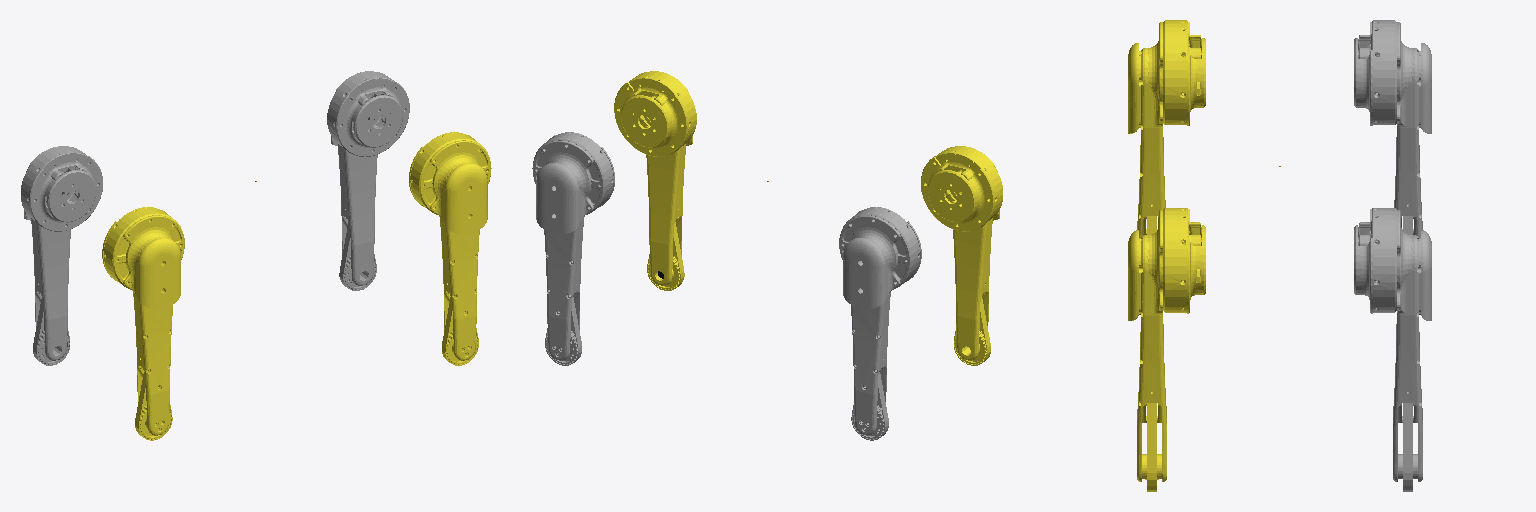
The robot description file, URDF, robot "mini_cheetah_vision":
<?xml version="1.0" ?>
<robot name="mini_cheetah_vision" xmlns:xacro="http://ros.org/wiki/xacro">
    <material name="black">
      <color rgba="0.0 0.0 0.0 1.0"/>
    </material>
    <material name="blue">
      <color rgba="0.0 0.0 0.8 1.0"/>
    </material>
    <material name="green">
      <color rgba="0.0 0.8 0.0 1.0"/>
    </material>
    <material name="grey">
      <color rgba="0.2 0.2 0.2 1.0"/>
    </material>
    <material name="silver">
      <color rgba="0.913725490196 0.913725490196 0.847058823529 1.0"/>
    </material>
    <material name="orange">
      <!-- <color rgba="1.0 0.423529411765 0.0392156862745 1.0"/> -->
      <color rgba="0.12 0.15 0.2 1.0"/>
    </material>
    <material name="brown">
      <color rgba="0.870588235294 0.811764705882 0.764705882353 1.0"/>
    </material>
    <material name="red">
      <color rgba="0.8 0.0 0.0 1.0"/>
    </material>
    <material name="white">
      <color rgba="1.0 1.0 1.0 1.0"/>
    </material>
    <link name="base">
      <visual>
        <origin rpy="0 0 0" xyz="0 0 0"/>
        <geometry>
          <box size="0.001 0.001 0.001"/>
        </geometry>
      </visual>
    </link>
    <joint name="floating_base" type="fixed">
      <origin rpy="0 0 0" xyz="0 0 0"/>
      <parent link="base"/>
      <child link="trunk"/>
    </joint>
    <link name="trunk">
        <inertial>
            <!-- <mass value="3.3"/> -->
            <mass value="2.65"/>
            <origin xyz="0.0 0.0 0.0"/>
            <inertia ixx="0.011253" ixy="0" ixz="0" iyy="0.362030" iyz="0" izz="0.042673"/>
        </inertial>
        <visual>
          <origin rpy="0.0 0.0 0.0" xyz="0.0 0.0 0.0"/>
          <geometry>
              <mesh filename="meshes/mini_vision_body.dae" scale="1 1 1"/>
          </geometry>
          <material name="orange"/>
        </visual>
        <collision>
          <origin rpy="0 0 0" xyz="0 0 0.0"/>
          <geometry>
            <box size="0.30 0.20 0.10"/>
          </geometry>
        </collision>
    </link>

     <joint name="FR_hip_joint" type="revolute">
        <axis xyz="1 0 0"/>
        <origin rpy="0 0 0" xyz="0.14775 -0.049 0.0"/>
        <parent link="trunk"/>
        <child link="FR_hip"/>
        <dynamics damping="0.0" friction="0.0"/>
        <limit effort="17" lower="-0.8" upper="0.8" velocity="40"/>
    </joint>
    <link name="FR_hip">
        <inertial>
            <mass value="0.54"/>
            <origin xyz="0.055 -0.036 0."/>
            <inertia ixx="0.000381" ixy="0.000058" ixz="0.00000045"
                iyy="0.000560" iyz="0.00000095" izz="0.000444"/>
        </inertial>
        <visual>
            <geometry>
                <mesh filename="meshes/mini_vision_abd.dae"/>
            </geometry>
            <origin rpy="0.0 0.0 0.0" xyz="0.0 0.0 0.0"/>
        </visual>
        <!-- <collision>
            <geometry>
                <mesh filename="meshes/mini_vision_abd.obj"/>
            </geometry>
            <origin rpy="0. 0. 0." xyz="0. 0 0"/>
        </collision> -->
    </link>
    <joint name="FR_thigh_joint" type="revolute">
        <axis xyz="0 -1 0"/>
        <origin rpy="0.0 0.0 0.0" xyz="0.055 -0.019 0.00"/>
        <parent link="FR_hip"/>
        <child link="FR_thigh"/>
        <dynamics damping="0.0" friction="0.0"/>
        <limit effort="17" lower="-2.5" upper="1.0" velocity="40"/>
    </joint>
    <link name="FR_thigh">
        <inertial>
            <mass value="0.634"/>
            <origin xyz="0.0 0.016 -0.02"/>
            <inertia ixx="0.001983" ixy="0.000245" ixz="0.000013"
                iyy="0.002103" iyz="0.0000015" izz="0.000408"/>
        </inertial>
        <visual>
            <geometry>
                <mesh filename="meshes/mini_vision_shank.dae"/>
            </geometry>
            <origin rpy="0.0 0.0 0.0" xyz="0.0 0.0 0.0"/>
        </visual>
        <collision>
          <origin rpy="0 1.57079632679 0" xyz="0 -0.05 -0.1"/>
          <geometry>
            <box size="0.2585 0.034 0.043"/>
          </geometry>
        </collision>
    </link>

    <joint name="FR_calf_joint" type="revolute">
        <axis xyz="0 -1 0"/>
        <origin rpy="0.0 0 0.0" xyz="0.0 -0.049 -0.2085"/>
        <parent link="FR_thigh"/>
        <child link="FR_calf"/>
        <dynamics damping="0.0" friction="0.0"/>
        <limit effort="17" lower="1.0" upper="2.5" velocity="40"/>
    </joint>
    <link name="FR_calf">
        <inertial>
            <mass value="0.064"/>
            <origin xyz="0.0 0.0 -0.061"/>
            <inertia ixx="0.000245" ixy="0" ixz="0.0" iyy="0.000248" iyz="0" izz="0.000006"/>
        </inertial>
        <visual>
            <geometry>
                <mesh filename="meshes/lower_leg.dae"/>
            </geometry>
            <origin rpy="0.0 0.0 0.0" xyz="0.0 0.0 0.0"/>
        </visual>
        <collision>
          <origin rpy="0 0 0" xyz="0 0 -0.09"/>
          <geometry>
            <box size="0.025 0.025 0.1955"/>
          </geometry>
        </collision>
    </link>
    <joint name="FR_foot_fixed" type="fixed" dont_collapse="true">
      <origin rpy="0 0 0" xyz="0 0.0 0"/>
      <parent link="FR_calf"/>
      <child link="FR_foot"/>
    </joint>
    <!-- this link is only for collision -->
    <link name="FR_foot">
      <visual>
        <origin rpy="0 0 0" xyz="0 0 0"/>
        <geometry>
          <sphere radius="0.01"/>
        </geometry>
        <material name="orange"/>
      </visual>
      <collision>
        <origin rpy="0.0 0.0 0" xyz="0 -0.004 -0.195"/>
        <geometry>
          <sphere radius="0.0185"/>
        </geometry>
      </collision>
      <inertial>
        <mass value="0.06"/>
        <inertia ixx="9.6e-06" ixy="0.0" ixz="0.0" iyy="9.6e-06" iyz="0.0" izz="9.6e-06"/>
      </inertial>
    </link>

    <joint name="FL_hip_joint" type="revolute">
        <axis xyz="1 0 0"/>
        <origin rpy="0 0 0" xyz="0.14775 0.049 0.0"/>
        <parent link="trunk"/>
        <child link="FL_hip"/>
        <dynamics damping="0.0" friction="0.0"/>
        <limit effort="17" lower="-0.8" upper="0.8" velocity="40"/>
    </joint>
    <link name="FL_hip">
        <inertial>
            <mass value="0.54"/>
            <origin xyz="0.055 0.036 0."/>
            <inertia ixx="0.000381" ixy="0.000058" ixz="0.00000045"
                iyy="0.000560" iyz="0.00000095" izz="0.000444"/>
        </inertial>
        <visual>
            <geometry>
                <mesh filename="meshes/mini_vision_abd.dae"/>
            </geometry>
            <origin rpy="3.141592 0.0 0.0" xyz="0.0 0.0 0.0"/>
        </visual>

    </link>

    <joint name="FL_thigh_joint" type="revolute">
        <axis xyz="0 -1 0"/>
        <origin rpy="0.0 0.0 0.0" xyz="0.055 0.019 0.00"/>
        <parent link="FL_hip"/>
        <child link="FL_thigh"/>
        <dynamics damping="0.0" friction="0.0"/>
        <limit effort="17" lower="-2.5" upper="1.0" velocity="40"/>
    </joint>
    <link name="FL_thigh">
        <inertial>
            <mass value="0.634"/>
            <origin xyz="0.0 0.016 -0.02"/>
            <inertia ixx="0.001983" ixy="0.000245" ixz="0.000013"
                iyy="0.002103" iyz="0.0000015" izz="0.000408"/>
        </inertial>
        <visual>
            <geometry>
                <mesh filename="meshes/mini_vision_shank.dae"/>
            </geometry>
            <origin rpy="0.0 0 3.141592" xyz="0.0 0.0 0.0"/>
        </visual>
        <collision>
          <origin rpy="0 1.57079632679 0" xyz="0 0.05 -0.1"/>
          <geometry>
            <box size="0.2585 0.034 0.043"/>
          </geometry>
        </collision>
    </link>

    <joint name="FL_calf_joint" type="revolute">
        <axis xyz="0 -1 0"/>
        <origin rpy="0.0 0 0.0" xyz="0.0 0.049 -0.2085"/>
        <parent link="FL_thigh"/>
        <child link="FL_calf"/>
        <dynamics damping="0.0" friction="0.0"/>
        <limit effort="17" lower="1.0" upper="2.5" velocity="40"/>
    </joint>
    <link name="FL_calf">
        <inertial>
            <mass value="0.064"/>
            <origin xyz="0.0 0.0 -0.061"/>
            <inertia ixx="0.000245" ixy="0" ixz="0.0" iyy="0.000248" iyz="0" izz="0.000006"/>
        </inertial>
        <visual>
            <geometry>
                <mesh filename="meshes/lower_leg.dae"/>
            </geometry>
            <origin rpy="0.0 0.0 3.141592" xyz="0.0 0.0 0.0"/>
        </visual>

        <collision>
          <origin rpy="0 0 0" xyz="0 0 -0.09"/>
          <geometry>
            <box size="0.025 0.025 0.1955"/>
          </geometry>
        </collision>
    </link>
    <joint name="FL_foot_fixed" type="fixed" dont_collapse="true">
      <origin rpy="0 0 0" xyz="0 0.0 0"/>
      <parent link="FL_calf"/>
      <child link="FL_foot"/>
    </joint>
    <!-- this link is only for collision -->
    <link name="FL_foot">
      <collision>
        <origin rpy="0.0 0.0 0" xyz="0 0.004 -0.195"/>
        <geometry>
          <sphere radius="0.0185"/>
        </geometry>
      </collision>
      <inertial>
        <mass value="0.06"/>
        <inertia ixx="9.6e-06" ixy="0.0" ixz="0.0" iyy="9.6e-06" iyz="0.0" izz="9.6e-06"/>
      </inertial>
    </link>

    <joint name="RR_hip_joint" type="revolute">
        <axis xyz="-1 0 0"/>
        <origin rpy="0 3.141592 0" xyz="-0.14775 -0.049 0.0"/>
        <parent link="trunk"/>
        <child link="RR_hip"/>
        <dynamics damping="0.0" friction="0.0"/>
        <limit effort="17" lower="-0.8" upper="0.8" velocity="40"/>
    </joint>
    <link name="RR_hip">
        <inertial>
            <mass value="0.54"/>
            <origin xyz="0.055 -0.036 0."/>
            <inertia ixx="0.000381" ixy="0.000058" ixz="0.00000045"
                iyy="0.000560" iyz="0.00000095" izz="0.000444"/>
        </inertial>
        <visual>
            <geometry>
                <mesh filename="meshes/mini_vision_abd.dae"/>
            </geometry>
            <origin rpy="0.0 0.0 0.0" xyz="0.0 0.0 0.0"/>
        </visual>
    </link>

    <joint name="RR_thigh_joint" type="revolute">
        <axis xyz="0 -1 0"/>
        <origin rpy="0.0 3.141592 0.0" xyz="0.055 -0.019 0.00"/>
        <parent link="RR_hip"/>
        <child link="RR_thigh"/>
        <dynamics damping="0.0" friction="0.0"/>
        <limit effort="17" lower="-2.5" upper="1.0" velocity="40"/>
    </joint>
    <link name="RR_thigh">
        <inertial>
            <mass value="0.634"/>
            <origin xyz="0.0 0.016 -0.02"/>
            <inertia ixx="0.001983" ixy="0.000245" ixz="0.000013"
                iyy="0.002103" iyz="0.0000015" izz="0.000408"/>
        </inertial>
        <visual>
            <geometry>
                <mesh filename="meshes/mini_vision_shank.dae"/>
            </geometry>
            <origin rpy="0.0 0.0 0.0" xyz="0.0 0.0 0.0"/>
        </visual>
        <collision>
          <origin rpy="0 1.57079632679 0" xyz="0 -0.05 -0.1"/>
          <geometry>
            <box size="0.2585 0.034 0.043"/>
          </geometry>
        </collision>
    </link>

    <joint name="RR_calf_joint" type="revolute">
        <axis xyz="0 -1 0"/>
        <origin rpy="0.0 0 0.0" xyz="0.0 -0.049 -0.2085"/>
        <parent link="RR_thigh"/>
        <child link="RR_calf"/>
        <dynamics damping="0.0" friction="0.0"/>
        <limit effort="17"  lower="1.0" upper="2.5" velocity="40"/>
    </joint>
    <link name="RR_calf">
        <inertial>
            <mass value="0.064"/>
            <origin xyz="0.0 0.0 -0.061"/>
            <inertia ixx="0.000245" ixy="0" ixz="0.0" iyy="0.000248" iyz="0" izz="0.000006"/>
        </inertial>
        <visual>
            <geometry>
                <mesh filename="meshes/lower_leg.dae"/>
            </geometry>
            <origin rpy="0.0 0.0 0.0" xyz="0.0 0.0 0.0"/>
        </visual>
        <collision>
          <origin rpy="0 0 0" xyz="0 0 -0.09"/>
          <geometry>
            <box size="0.025 0.025 0.1955"/>
          </geometry>
        </collision>
    </link>
    <joint name="RR_foot_fixed" type="fixed" dont_collapse="true">
      <origin rpy="0 0 0" xyz="0 0.0 0"/>
      <parent link="RR_calf"/>
      <child link="RR_foot"/>
    </joint>
    <!-- this link is only for collision -->
    <link name="RR_foot">
      <collision>
        <origin rpy="0.0 0.0 0" xyz="0 -0.004 -0.195"/>
        <geometry>
          <sphere radius="0.0185"/>
        </geometry>
      </collision>
      <inertial>
        <mass value="0.06"/>
        <inertia ixx="9.6e-06" ixy="0.0" ixz="0.0" iyy="9.6e-06" iyz="0.0" izz="9.6e-06"/>
      </inertial>
    </link>

    <joint name="RL_hip_joint" type="revolute">
        <axis xyz="-1 0 0"/>
        <origin rpy="0 3.141592 0" xyz="-0.14775 0.049 0.0"/>
        <parent link="trunk"/>
        <child link="RL_hip"/>
        <dynamics damping="0.0" friction="0.0"/>
        <limit effort="17" lower="-0.8" upper="0.8" velocity="40"/>
    </joint>
    <link name="RL_hip">
        <inertial>
            <mass value="0.54"/>
            <origin xyz="0.055 0.036 0."/>
            <inertia ixx="0.000381" ixy="0.000058" ixz="0.00000045"
                iyy="0.000560" iyz="0.00000095" izz="0.000444"/>
        </inertial>
        <visual>
            <geometry>
                <mesh filename="meshes/mini_vision_abd.dae"/>
            </geometry>
            <origin rpy="3.141592 0.0 0.0" xyz="0.0 0.0 0.0"/>
        </visual>
    </link>

    <joint name="RL_thigh_joint" type="revolute">
        <axis xyz="0 -1 0"/>
        <origin rpy="0.0 3.141592 0.0" xyz="0.055 0.019 0.00"/>
        <parent link="RL_hip"/>
        <child link="RL_thigh"/>
        <dynamics damping="0.0" friction="0.0"/>
        <limit effort="17" lower="-2.5" upper="1.0" velocity="40"/>
    </joint>
    <link name="RL_thigh">
        <inertial>
            <mass value="0.634"/>
            <origin xyz="0.0 0.016 -0.02"/>
            <inertia ixx="0.001983" ixy="0.000245" ixz="0.000013"
                iyy="0.002103" iyz="0.0000015" izz="0.000408"/>
        </inertial>
        <visual>
            <geometry>
                <mesh filename="meshes/mini_vision_shank.dae"/>
            </geometry>
            <origin rpy="0.0 0 3.141592" xyz="0.0 0.0 0.0"/>
        </visual>
        <collision>
          <origin rpy="0 1.57079632679 0" xyz="0.0 0.05 -0.1"/>
          <geometry>
            <box size="0.2585 0.034 0.043"/>
          </geometry>
        </collision>
    </link>

    <joint name="RL_calf_joint" type="revolute">
        <axis xyz="0 -1 0"/>
        <origin rpy="0.0 0 0.0" xyz="0.0 0.049 -0.2085"/>
        <parent link="RL_thigh"/>
        <child link="RL_calf"/>
        <dynamics damping="0.0" friction="0.0"/>
        <limit effort="17" lower="1.0" upper="2.5" velocity="40"/>
    </joint>
    <link name="RL_calf">
        <inertial>
            <mass value="0.064"/>
            <origin xyz="0.0 0.0 -0.061"/>
            <inertia ixx="0.000245" ixy="0" ixz="0.0" iyy="0.000248" iyz="0" izz="0.000006"/>
        </inertial>
        <visual>
            <geometry>
                <mesh filename="meshes/lower_leg.dae"/>
            </geometry>
            <origin rpy="0.0 0.0 3.141592" xyz="0.0 0.0 0.0"/>
        </visual>
        <collision>
          <origin rpy="0 0 0" xyz="0 0 -0.09"/>
          <geometry>
            <box size="0.025 0.025 0.1955"/>
          </geometry>
        </collision>
    </link>
    <joint name="RL_foot_fixed" type="fixed" dont_collapse="true">
      <origin rpy="0 0 0" xyz="0 0.004 -0.195"/>
      <parent link="RL_calf"/>
      <child link="RL_foot"/>
    </joint>
    <!-- this link is only for collision -->
    <link name="RL_foot">
      <collision>
        <origin rpy="0.0 0.0 0" xyz="0 0 0"/>
        <geometry>
          <sphere radius="0.0185"/>
        </geometry>
      </collision>
      <inertial>
        <mass value="0.06"/>
        <inertia ixx="9.6e-06" ixy="0.0" ixz="0.0" iyy="9.6e-06" iyz="0.0" izz="9.6e-06"/>
      </inertial>
    </link>
</robot>

--- What the picture shows (computed from the rendered views, not written in the file) ---
Views: 3 orthographic renders of the robot side by side, from view 1: azimuth 30°, elevation 25°; view 2: azimuth 150°, elevation 25°; view 3: azimuth 270°, elevation 25°.
Model mini_cheetah_vision with 18 links and 17 joints (12 revolute, 5 fixed), rooted at base, posed all joints at 0 but 4 set to mid-range because 0 is outside their limits (FR_calf_joint = 1.75, FL_calf_joint = 1.75, RR_calf_joint = 1.75, RL_calf_joint = 1.75).
Links seen in each view (by area): view 1: FR_thigh, RR_thigh, FL_thigh, RL_thigh; view 2: FL_thigh, RL_thigh, RR_thigh, FR_thigh; view 3: FL_thigh, FR_thigh, RL_thigh, RR_thigh.
Link boxes in pixels (x1,y1,x2,y2): FR_thigh: [409, 132, 491, 365]; RR_thigh: [102, 207, 184, 440]; FL_thigh: [327, 71, 409, 290]; RL_thigh: [21, 146, 102, 365]; FL_thigh: [532, 132, 614, 365]; RL_thigh: [839, 207, 921, 440]; RR_thigh: [921, 146, 1002, 365]; FR_thigh: [614, 71, 696, 290]; FL_thigh: [1354, 208, 1431, 491]; FR_thigh: [1128, 208, 1205, 491]; RL_thigh: [1354, 20, 1431, 237]; RR_thigh: [1128, 20, 1205, 237].
Bounding box of the posed robot: 0.5029 × 0.2785 × 0.2785 m (x, y, z).
4 mesh visuals loaded from 4 distinct referenced files (1 Collada DAE); not drawn: 9 (reference not matched to a file when rendering).